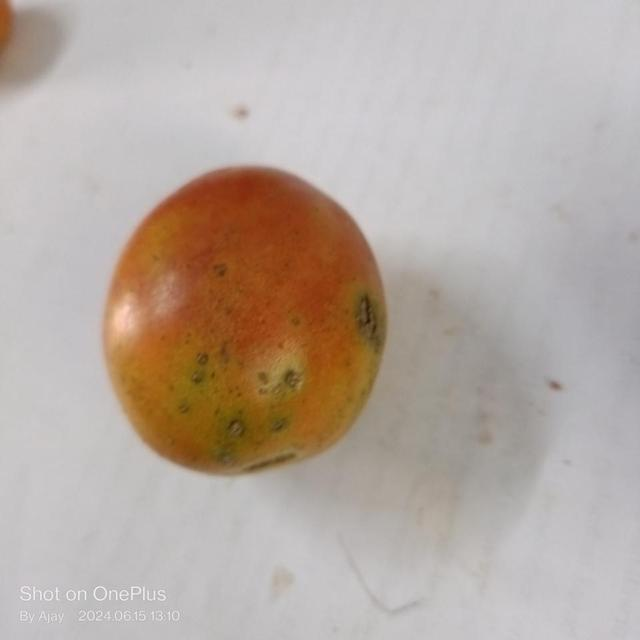Bacterial Spot Fruit: (14, 10, 245, 285)
